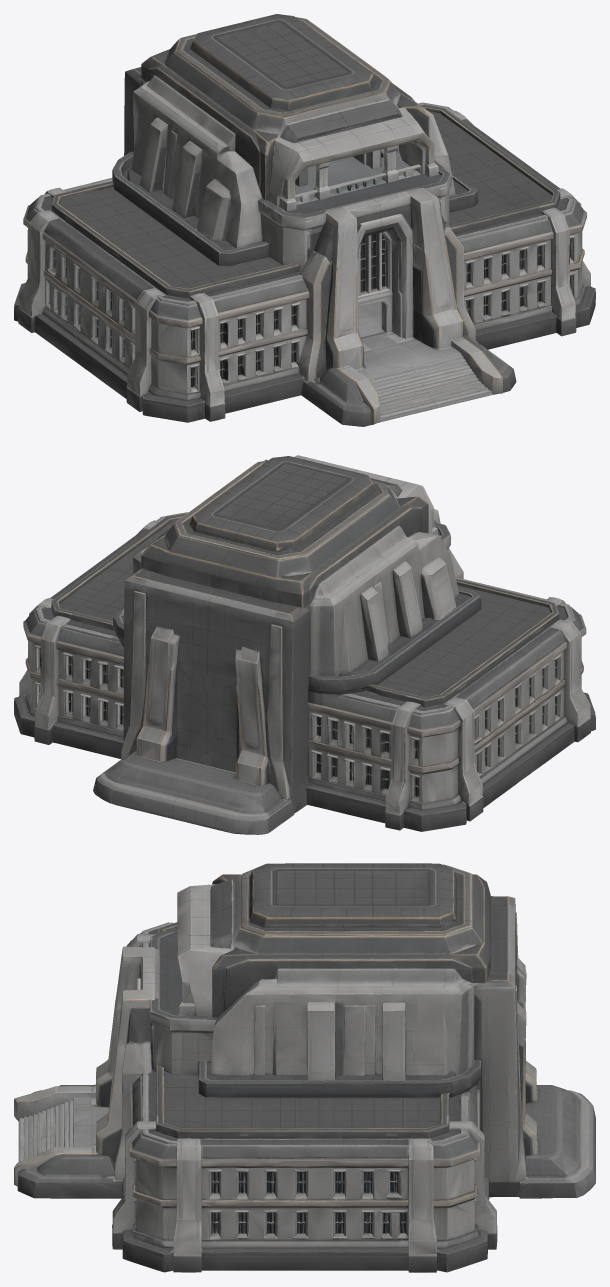
File: imperial_governor_palace.glb
3 renders of one model, top to bottom at view 1: azimuth 30°, elevation 25°; view 2: azimuth 150°, elevation 25°; view 3: azimuth 270°, elevation 25°, orthographic. The views are drawn at different scales.
Parts seen in each view (by area): view 1: mesh_node; view 2: mesh_node; view 3: mesh_node.
Part boxes in pixels (<box>): mesh_node: <box>14,14,595,426</box>; mesh_node: <box>14,455,595,834</box>; mesh_node: <box>14,863,595,1272</box>.
Size of the model in its own units: 36.93 by 18.9 by 37.61.
Materials: 1 (1 with a texture image).
